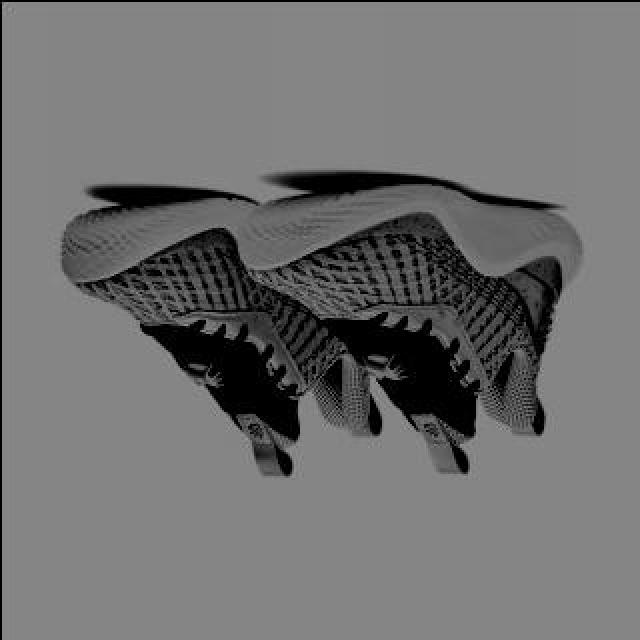shoe: (236, 179, 582, 475), (58, 194, 412, 476)
